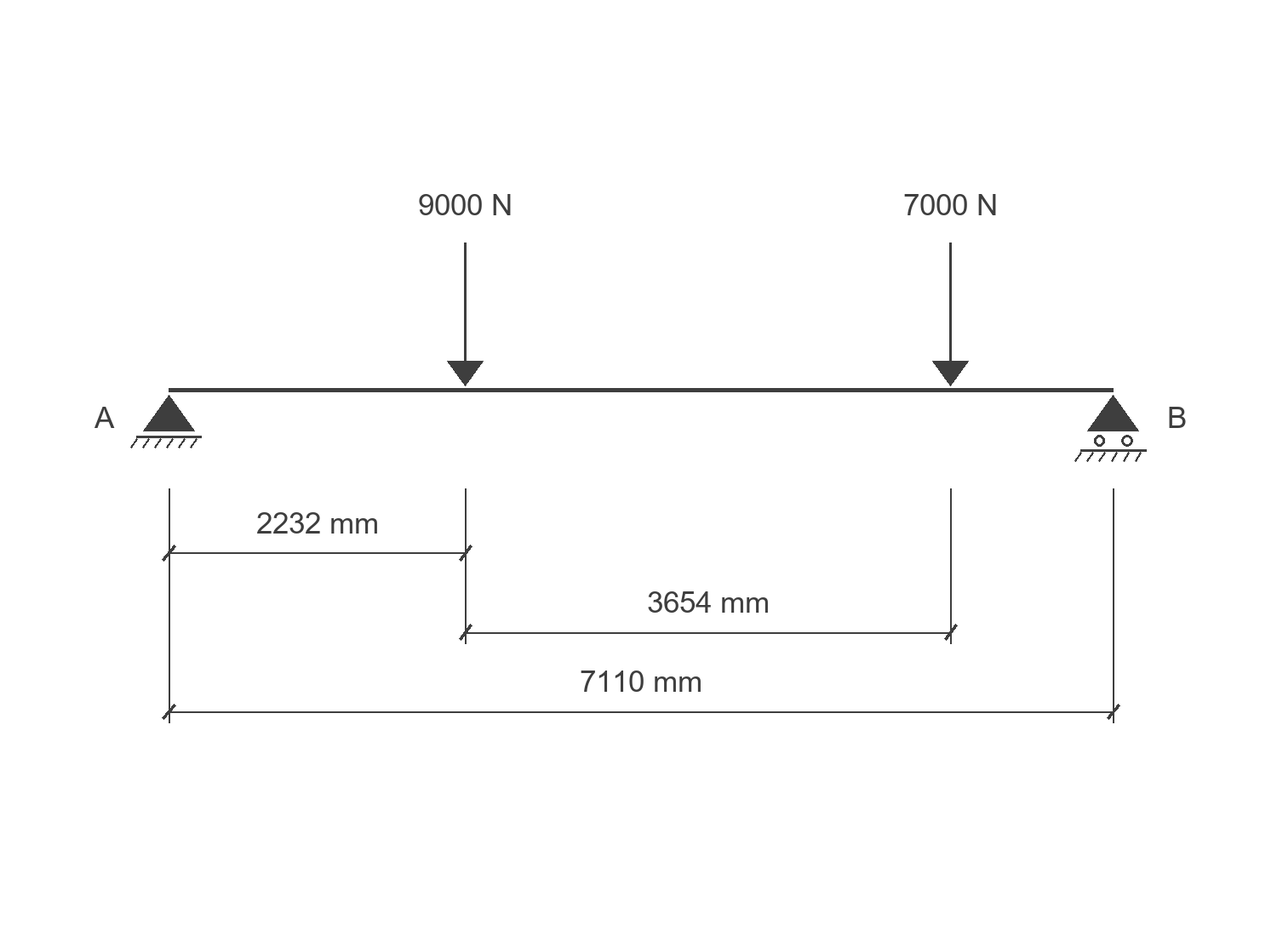pin_support: (130, 395, 202, 448)
point_load: (447, 243, 484, 386), (932, 243, 969, 386)
roller_support: (1074, 395, 1147, 462)
